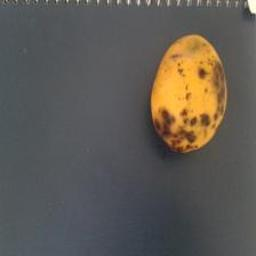Mango Rotten: (141, 17, 232, 163)
